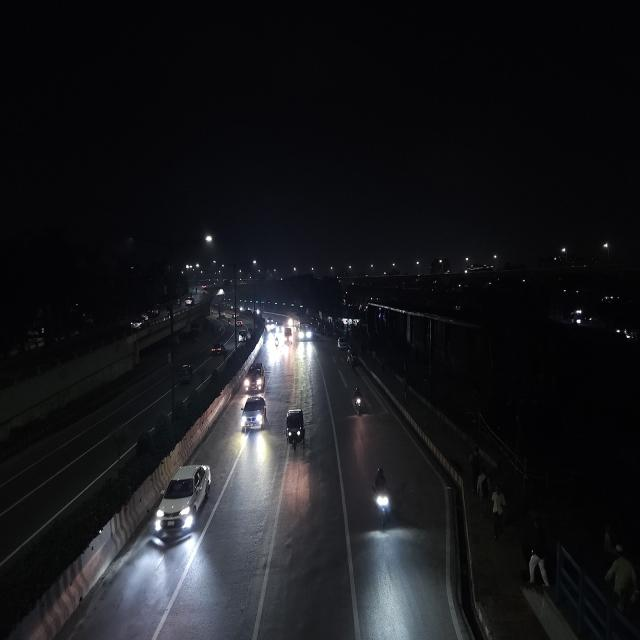bus: (295, 314, 313, 344)
car: (151, 460, 215, 547), (238, 392, 270, 436), (242, 360, 268, 395), (209, 340, 226, 358), (130, 315, 148, 330), (236, 327, 248, 345), (336, 334, 348, 351), (336, 335, 348, 351), (184, 297, 194, 309)
cng: (282, 406, 309, 452), (176, 359, 194, 386)
motorcycle: (369, 464, 395, 532), (350, 382, 368, 418), (274, 334, 280, 350)
pedestrian: (606, 546, 640, 622)
pickup_van: (283, 327, 292, 345)
